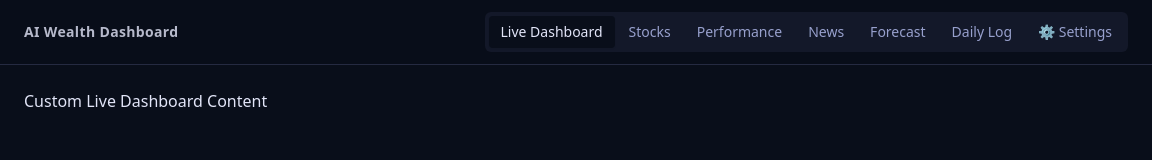
TabNavigation › renders custom slot content when a slot is provided
The image size is (1152, 160).
Expected: the text "Custom Live Dashboard Content" is shown, [24,90,267,112]
// Switch to Daily Log
Click the tab "Daily Log".
click(982, 32)  # box [940,16,1024,48]
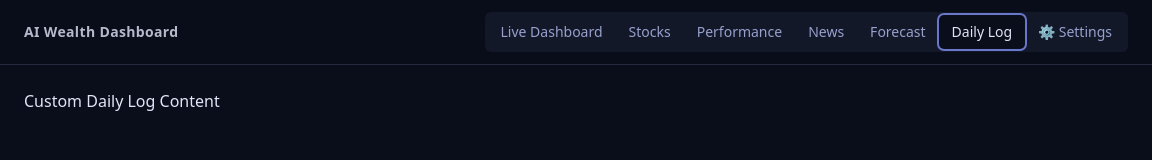
Result: the text "Custom Daily Log Content" is shown at [24,90,220,112]
